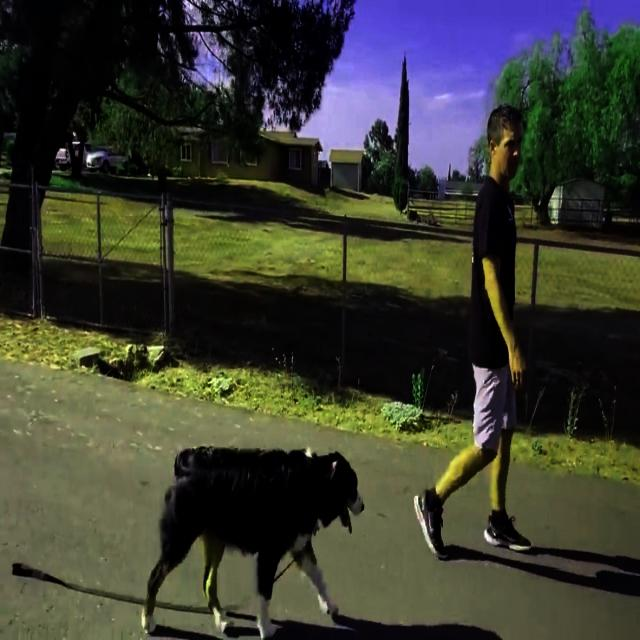Unleashed_Dog: (140, 358, 512, 640)
